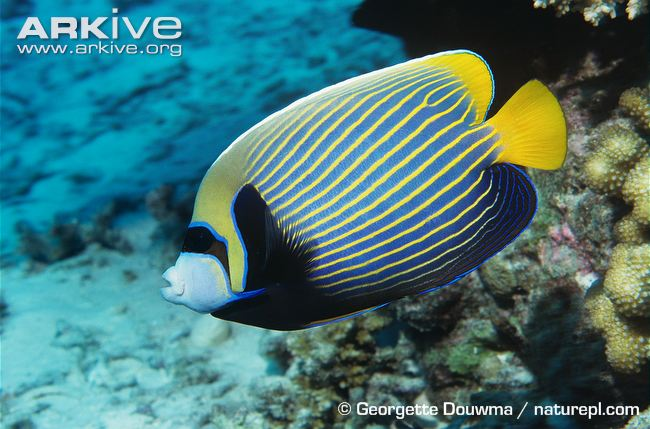Pomacanthus_imperator: (141, 37, 577, 344)
